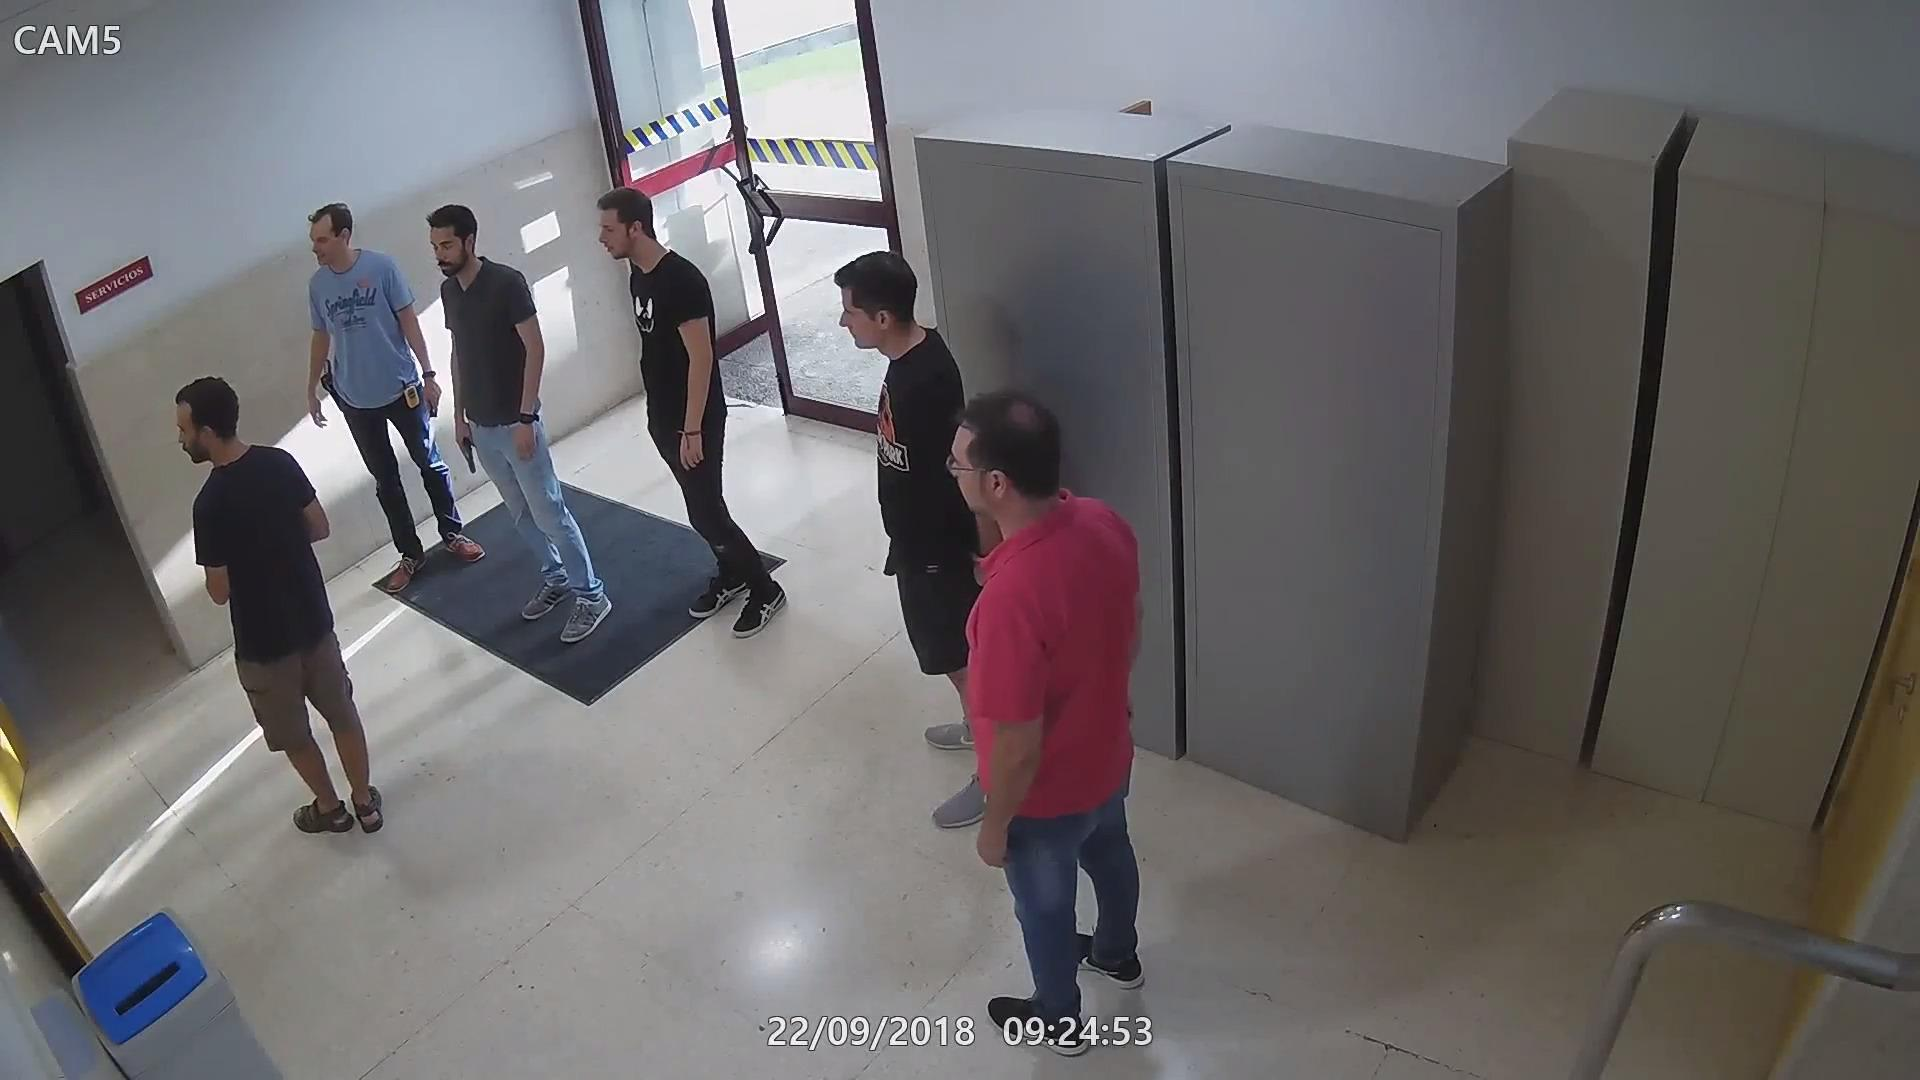Handgun: (315, 353, 342, 417), (450, 417, 479, 473), (877, 529, 897, 579)
